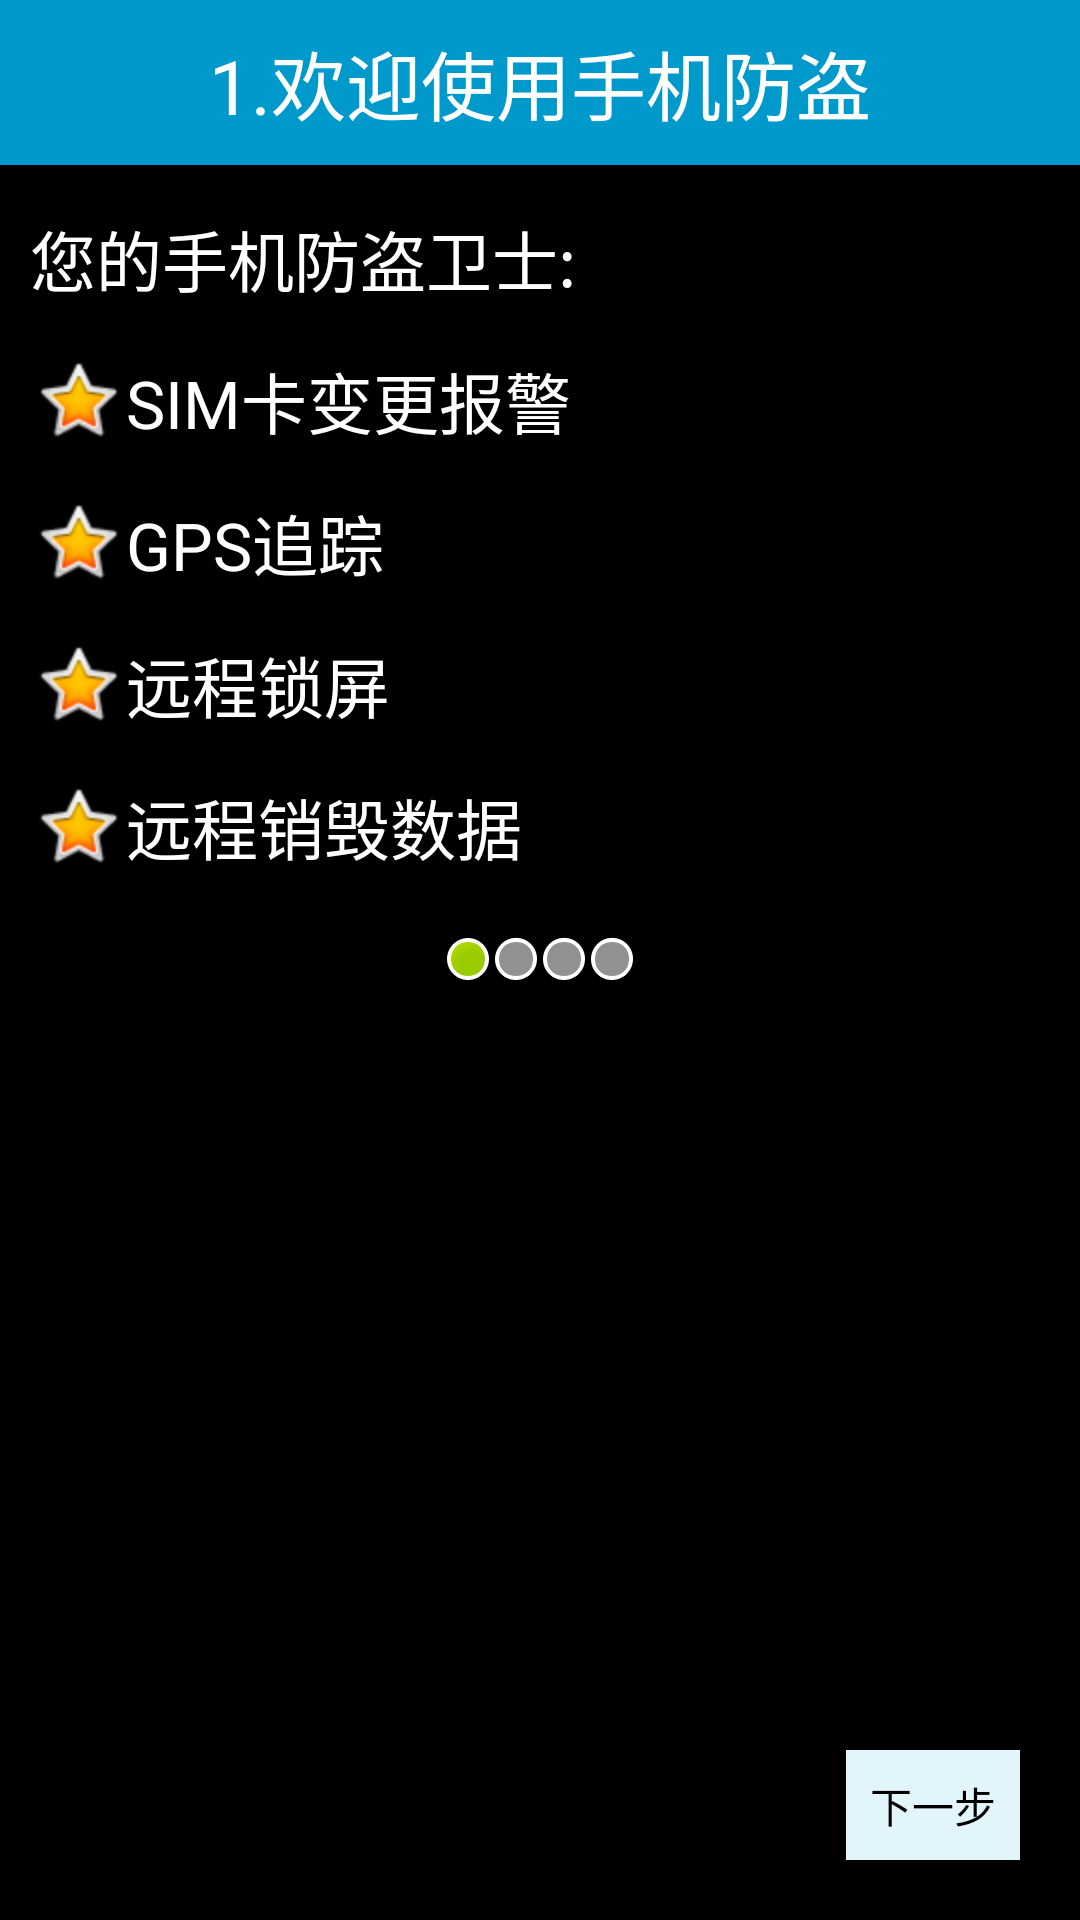

Screen size 1080 × 1920. Icon name, then its box in pixels as bbox=[x1, y1, x2, y2]:
presence invisible: bbox=[495, 937, 537, 980], bbox=[543, 937, 585, 980], bbox=[591, 937, 633, 980]
presence online: bbox=[447, 938, 489, 980]
